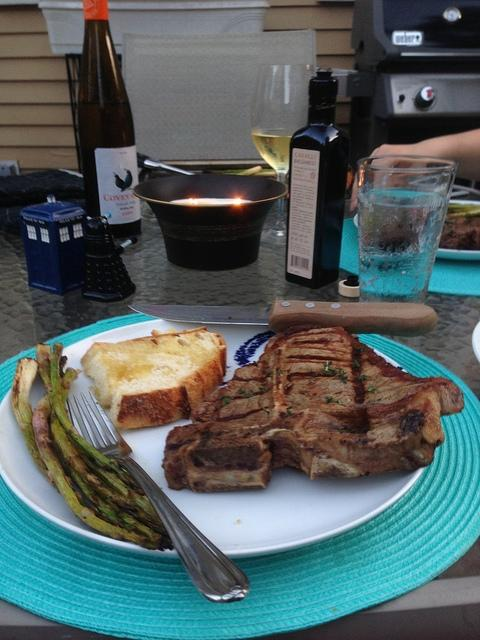asparagus: (36, 342, 172, 540), (32, 394, 158, 550), (48, 354, 146, 496), (66, 434, 162, 524), (51, 439, 137, 531), (11, 358, 60, 492), (448, 203, 479, 212), (235, 166, 262, 176)
